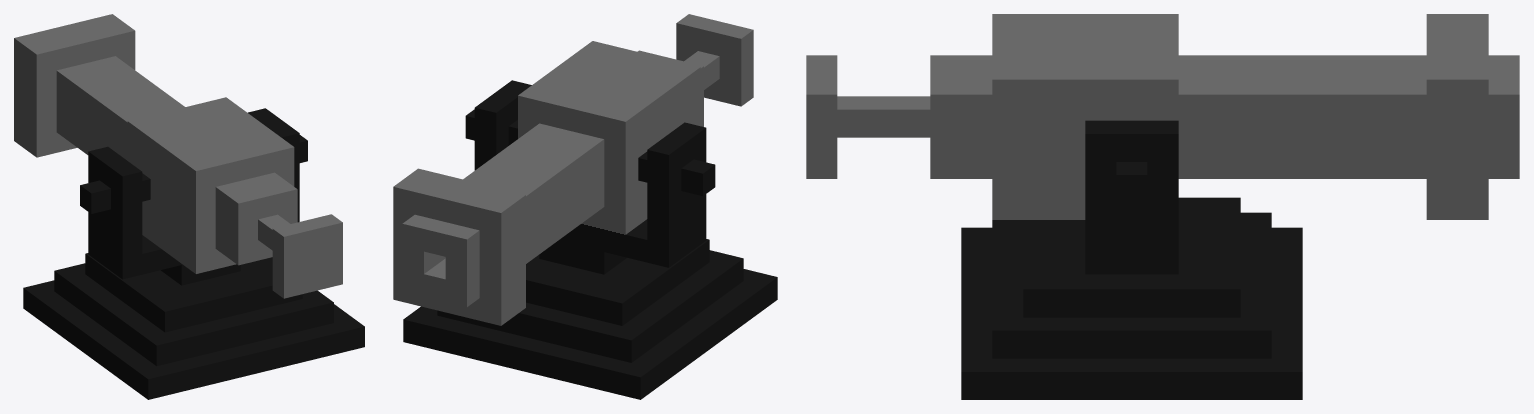
The model's file is small_cannon.dae.
The picture shows the model from 3 angles, left to right: view 1: azimuth 30°, elevation 25°; view 2: azimuth 150°, elevation 25°; view 3: azimuth 270°, elevation 25°; orthographic projection. The views are drawn at different scales.
Visible parts, largest first — view 1: small_cannon; view 2: small_cannon; view 3: small_cannon.
Part boxes in pixels (x1=…): small_cannon: x1=14, y1=14, x2=364, y2=399; small_cannon: x1=393, y1=14, x2=777, y2=399; small_cannon: x1=806, y1=14, x2=1519, y2=399.
Bounding box in the file's own units: 1.1 × 1 × 2.3.
1 material, 1 textured.
